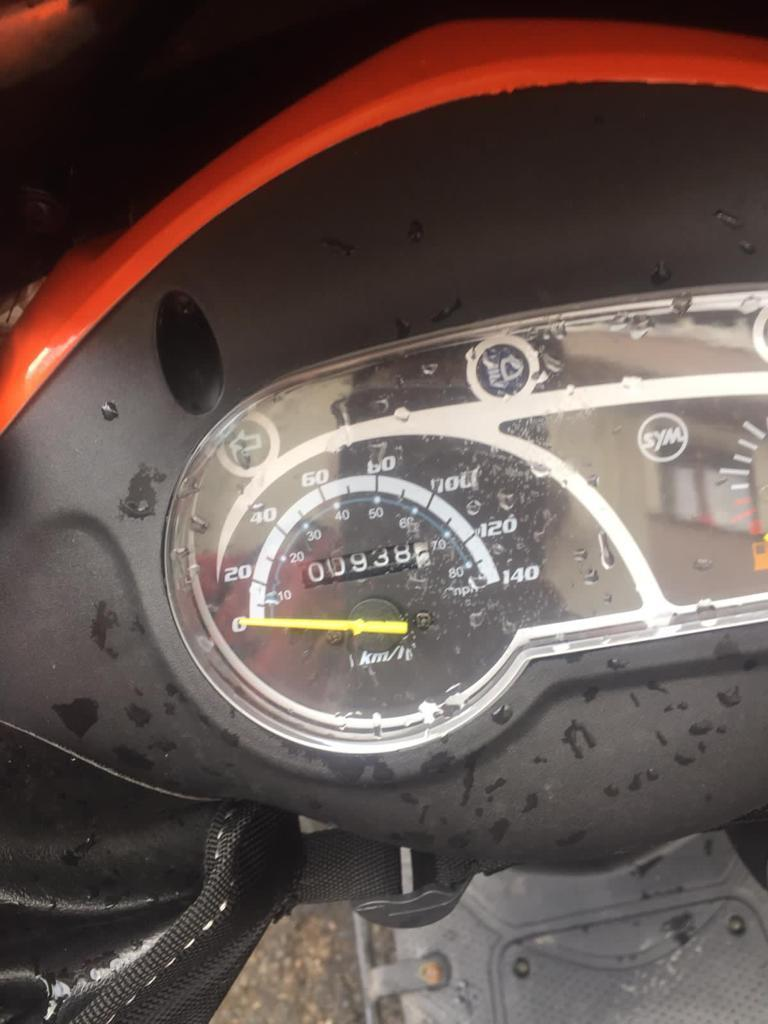0: (307, 561, 324, 582), (329, 556, 346, 576), (297, 550, 304, 561)
2: (417, 549, 432, 567)
3: (371, 546, 389, 568)
8: (392, 544, 411, 563)
9: (349, 551, 367, 573)
odometer: (296, 537, 433, 592)
